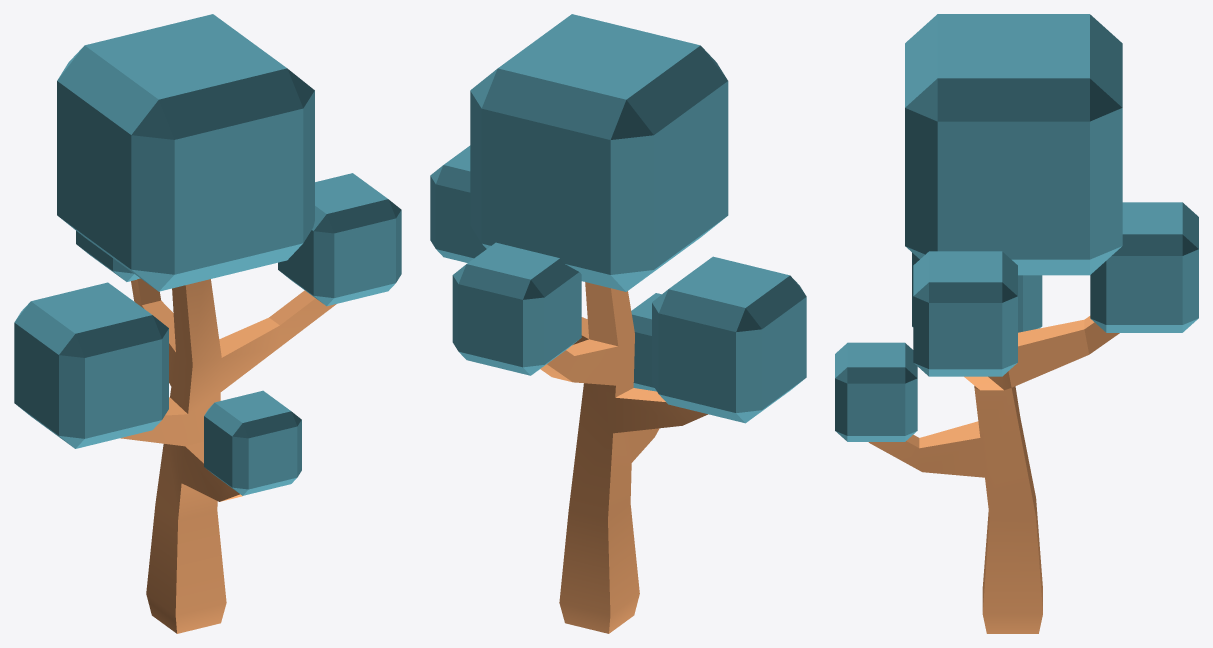
Rendered from tree_detailed_dark.obj.
3 renders of one model, left to right at view 1: azimuth 30°, elevation 25°; view 2: azimuth 150°, elevation 25°; view 3: azimuth 270°, elevation 25°, orthographic. The views are drawn at different scales.
Visible parts, largest first — view 1: tree_detailed_dark; view 2: tree_detailed_dark; view 3: tree_detailed_dark.
Part boxes in pixels (x1,y1,x2,y2): tree_detailed_dark: (14,14,401,633); tree_detailed_dark: (430,14,806,633); tree_detailed_dark: (835,14,1198,633).
Bounding box in the file's own units: 8.47 × 13.32 × 7.62.
